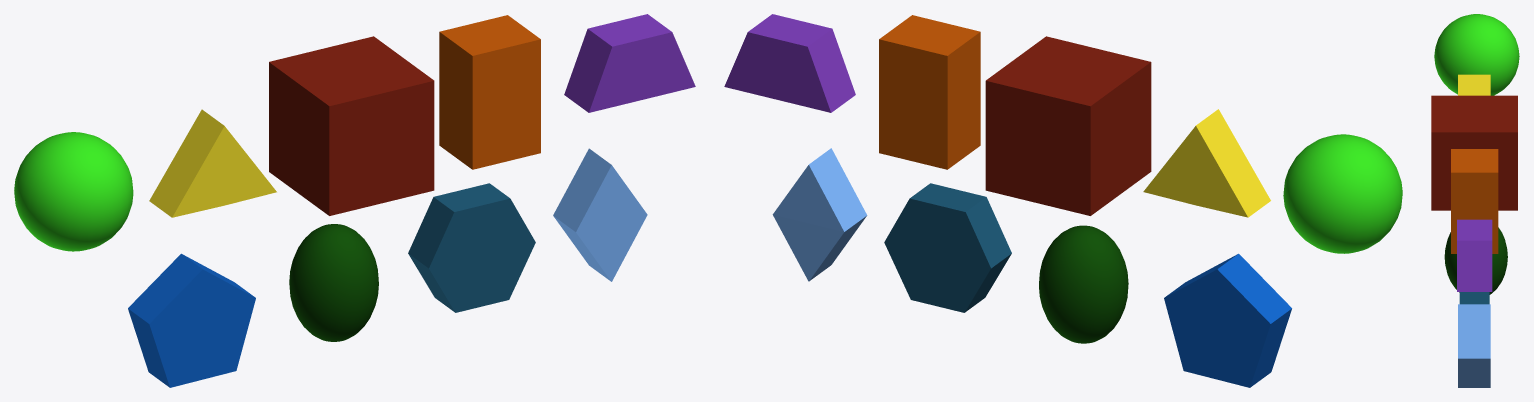
The model's file is Shapes.fbx.
3 views of the same model, side by side, from view 1: azimuth 30°, elevation 25°; view 2: azimuth 150°, elevation 25°; view 3: azimuth 270°, elevation 25° (orthographic). The views are drawn at different scales.
Visible parts, largest first — view 1: Sqaure, Rectangle, Pentagonal, Hexagonal, Circle, Conee, Oval, Triangle, Diomand; view 2: Sqaure, Rectangle, Pentagonal, Hexagonal, Circle, Conee, Oval, Triangle, Diomand; view 3: Sqaure, Circle, Rectangle, Diomand, Conee, Oval, Triangle, Hexagonal.
Part boxes in pixels (x1,y1,x2,y2): Sqaure: (269, 36, 434, 215); Rectangle: (439, 15, 540, 169); Pentagonal: (128, 253, 255, 387); Hexagonal: (408, 183, 535, 312); Circle: (14, 132, 133, 251); Conee: (564, 14, 695, 112); Oval: (289, 224, 378, 341); Triangle: (149, 109, 276, 217); Diomand: (553, 148, 647, 281); Sqaure: (985, 36, 1151, 215); Rectangle: (879, 15, 980, 169); Pentagonal: (1164, 253, 1291, 387); Hexagonal: (884, 183, 1011, 312); Circle: (1283, 134, 1402, 253); Conee: (724, 14, 855, 112); Oval: (1039, 225, 1128, 343); Triangle: (1143, 109, 1270, 217); Diomand: (772, 148, 867, 281); Sqaure: (1431, 95, 1517, 210); Circle: (1434, 14, 1519, 95); Rectangle: (1451, 149, 1498, 253); Diomand: (1458, 304, 1490, 387); Conee: (1457, 219, 1492, 291); Oval: (1444, 227, 1507, 294); Triangle: (1458, 74, 1490, 95); Hexagonal: (1459, 292, 1489, 304).
Size of the model in its own units: 1062 by 410 by 172.
